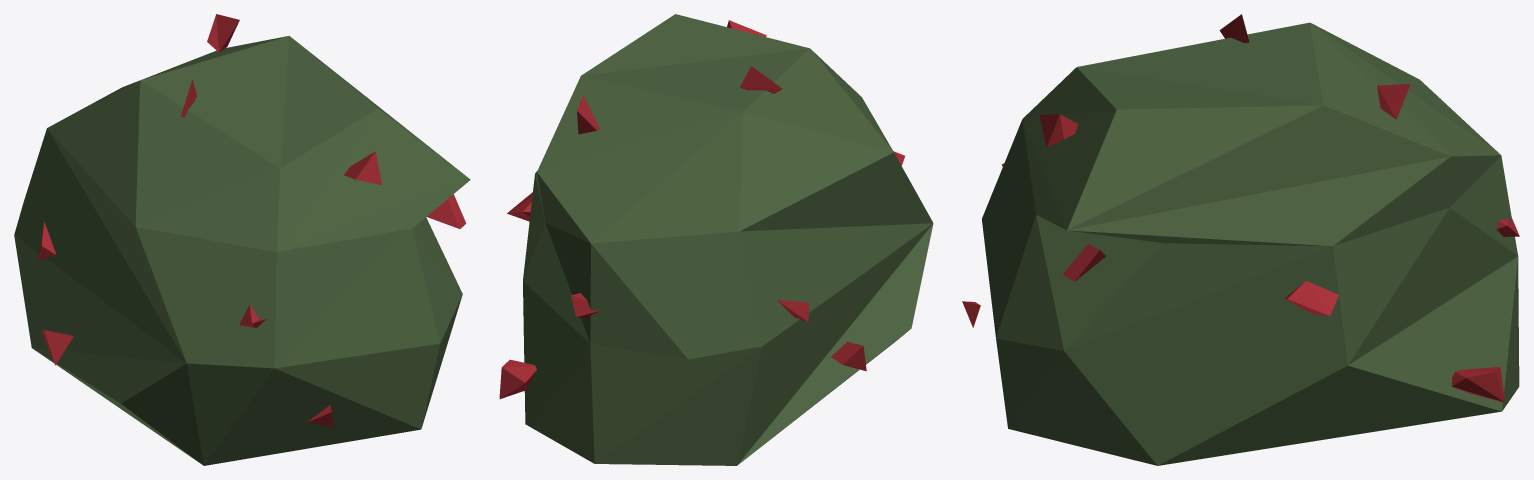
The model's file is BushBerries_1_lod.glb.
3 renders of one model, left to right at view 1: azimuth 30°, elevation 25°; view 2: azimuth 150°, elevation 25°; view 3: azimuth 270°, elevation 25°, orthographic. The views are drawn at different scales.
Visible parts, largest first — view 1: BushBerries_1; view 2: BushBerries_1; view 3: BushBerries_1.
Boxes of the visible parts, box(x1,y1,x2,y2) form: BushBerries_1: box(14, 14, 470, 465); BushBerries_1: box(499, 14, 933, 465); BushBerries_1: box(962, 14, 1519, 465).
Bounding box in the file's own units: 1.32 × 1.2 × 1.7.
